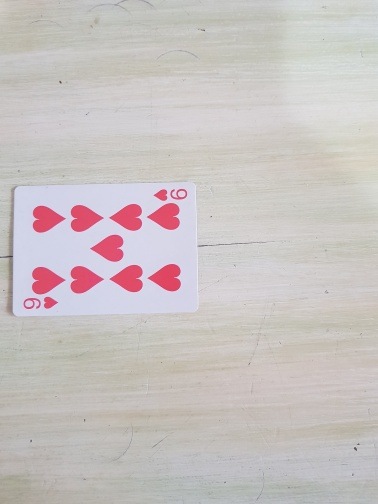nine: (11, 181, 200, 318)
